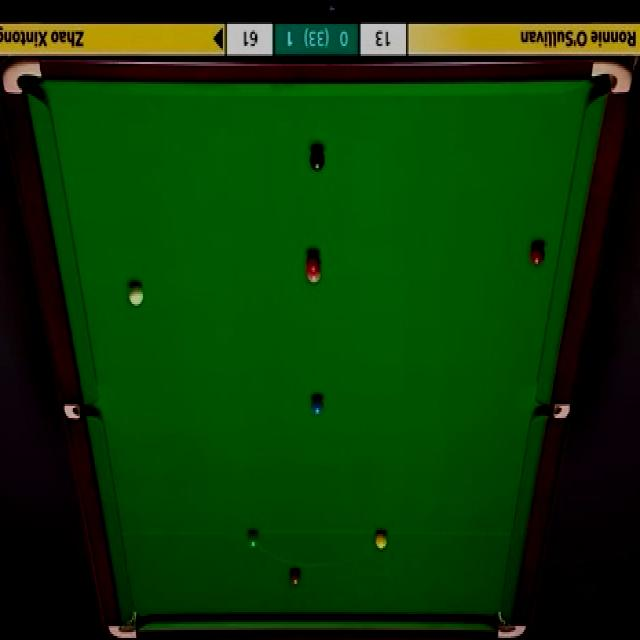black-ball: (308, 146, 326, 172)
blue-ball: (310, 394, 325, 418)
brown-ball: (289, 566, 302, 586)
green-ball: (247, 530, 260, 551)
pink-ball: (306, 270, 322, 285)
red-ball: (530, 242, 546, 268), (305, 252, 321, 273)
white-ball: (128, 283, 144, 308)
yellow-ball: (375, 530, 387, 550)
